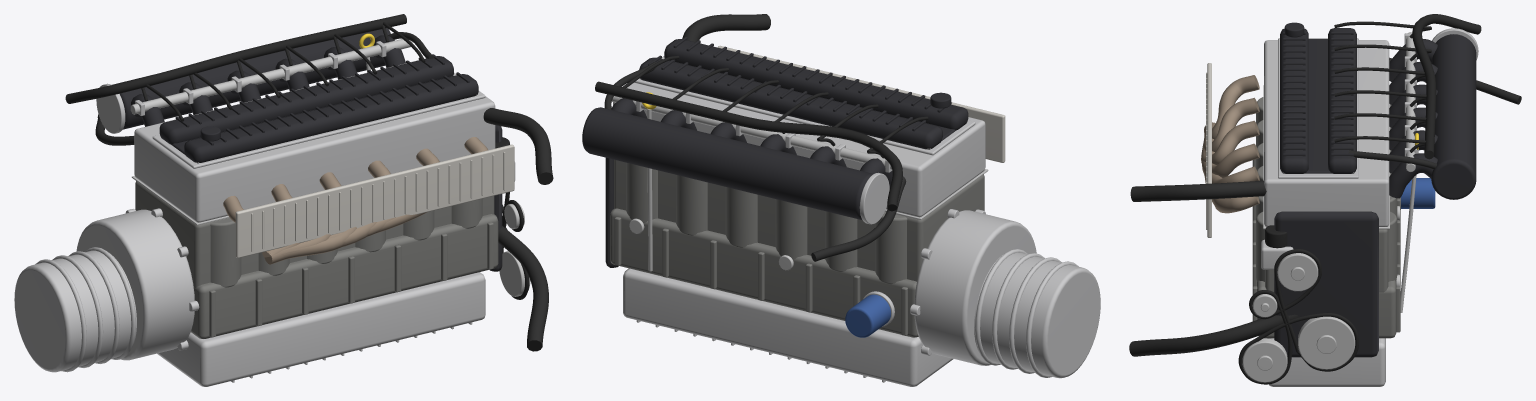
Rendered from Engine_I6.fbx.
The picture shows the model from 3 angles, left to right: view 1: azimuth 30°, elevation 25°; view 2: azimuth 150°, elevation 25°; view 3: azimuth 270°, elevation 25°; orthographic projection. The views are drawn at different scales.
Parts seen in each view (by area): view 1: Engine_I6_LOD0; view 2: Engine_I6_LOD0; view 3: Engine_I6_LOD0.
Boxes of the visible parts, left/top/right/bottom form: Engine_I6_LOD0: left=14, top=14, right=553, bottom=386; Engine_I6_LOD0: left=582, top=14, right=1100, bottom=386; Engine_I6_LOD0: left=1129, top=14, right=1521, bottom=386.
Size of what is drawn, in the model's own units: 1.22 by 0.6705 by 0.9562.
